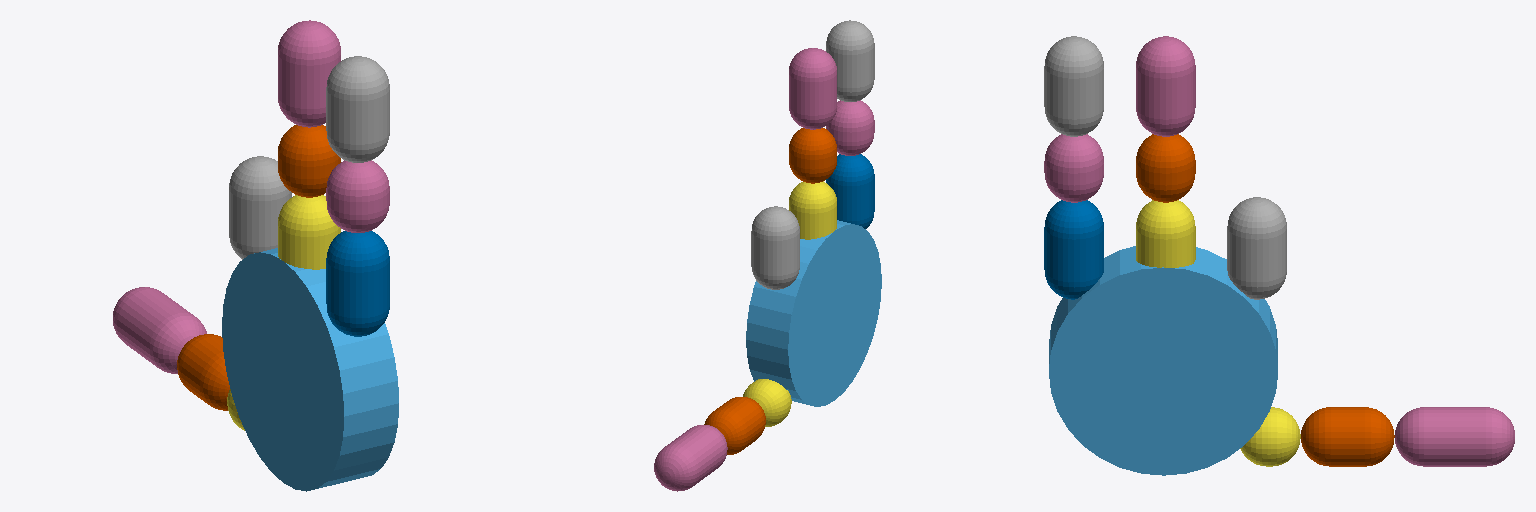
robot.urdf — DexterousHand:
<?xml version="1.0"?>
<robot name="DexterousHand">


    <link name="world"/>
    <joint name="world_to_palm" type="fixed">
        <parent link="world"/>
        <child link="palm"/>
        <origin xyz="0 0 0" rpy="0 0 0"/>
    </joint>
    <link name="palm">
        <inertial>
            <origin xyz="0 0 0.057" rpy="0 0 0"/>
            <mass value="0.30212892864"/>
            <inertia ixx="0.00049080844457568" ixy="0.0" ixz="0.0" iyy="0.00026746366246427523" iyz="0.0" izz="0.00026746366246427523"/>
        </inertial>
        <visual>
            <origin xyz="0 0 0.057" rpy="1.5708 0 1.5708"/>
            <geometry>
                <cylinder radius="0.057" length="0.0296"/>
            </geometry>
            <material name="default"/>
        </visual>
        <collision>
            <origin xyz="0 0 0.057" rpy="1.5708 0 1.5708"/>
            <geometry>
                <cylinder radius="0.057" length="0.0296"/>
            </geometry>
        </collision>
    </link>

    
    <joint name="thumb_joint1" type="revolute">
        <parent link="palm"/>
        <child link="thumb_base"/>
        <origin xyz="0.0029 0.0368 0.0157" rpy="-1.5708 -1.5708 0.0"/>
        <axis xyz="-1 0 0"/>
        <limit lower="-0.349" upper="2.094" effort="1.0" velocity="1.0"/>
    </joint>

    <link name="thumb_base"></link>

    <joint name="thumb_joint2" type="revolute">
        <parent link="thumb_base"/>
        <child link="thumb_proximal"/>
        <origin xyz="0.0 0.0 0.0" rpy="0.0 0.0 0.0"/>
        <axis xyz="0 0 1"/>
        <limit lower="-0.47" upper="2.443" effort="1.0" velocity="1.0"/>
    </joint>

    <link name="thumb_proximal">
        <inertial>
            <origin xyz="0 0 0.01565" rpy="0 0 0"/>
            <mass value="0.021538658803200002"/>
            <inertia ixx="2.9378910096388167e-06" ixy="0.0" ixz="0.0" 
            iyy="2.9378910096388167e-06" iyz="0.0" izz="2.358913912126464e-06"/>
        </inertial>
        <visual>
            <origin xyz="0 0 0.01565" rpy="0 0 0"/>
            <geometry>
                <cylinder radius="0.0148" length="0.0017000000000000001"/>
            </geometry>
            <material name="default"/>
        </visual>
        <visual>
            <origin xyz="0 0 0.0148" rpy="0 0 0"/>
            <geometry>
                <sphere radius="0.0148"/>
            </geometry>
            <material name="default"/>
        </visual>
        <visual>
            <origin xyz="0 0 0.0165" rpy="0 0 0"/>
            <geometry>
                <sphere radius="0.0148"/>
            </geometry>
            <material name="default"/>
        </visual>
        <collision>
            <origin xyz="0 0 0.01565" rpy="0 0 0"/>
            <geometry>
                <cylinder radius="0.0148" length="0.0017000000000000001"/>
            </geometry>
        </collision>
        <collision>
            <origin xyz="0 0 0.0148" rpy="0 0 0"/>
            <geometry>
                <sphere radius="0.0148"/>
            </geometry>
        </collision>
        <collision>
            <origin xyz="0 0 0.0165" rpy="0 0 0"/>
            <geometry>
                <sphere radius="0.0148"/>
            </geometry>
        </collision>
    </link>

    <joint name="thumb_joint3" type="revolute">
        <parent link="thumb_proximal"/>
        <child link="thumb_knuckle"/>
        <origin xyz="0.0 0.0 0.0313" rpy="0.0 0.0 0.0"/>
        <axis xyz="1 0 0"/>
        <limit lower="0.0" upper="0.0" effort="1.0" velocity="1.0"/>
    </joint>

    <link name="thumb_knuckle"></link>

    <joint name="thumb_joint4" type="revolute">
        <parent link="thumb_knuckle"/>
        <child link="thumb_middle"/>
        <origin xyz="0 0 0" rpy="0 0 0"/> 
        <axis xyz="0 1 0"/>
        <limit lower="-1.2" upper="1.9" effort="1.0" velocity="1.0"/>
    </joint>

    <link name="thumb_middle">
        <inertial>
            <origin xyz="0 0 0.0233" rpy="0 0 0"/>
            <mass value="0.032067140582400004"/>
            <inertia ixx="7.5589732685519385e-06" ixy="0.0" ixz="0.0" 
            iyy="7.5589732685519385e-06" iyz="0.0" izz="3.5119932365844485e-06"/>
        </inertial>
        <visual>
            <origin xyz="0 0 0.0233" rpy="0 0 0"/>
            <geometry>
                <cylinder radius="0.0148" length="0.017"/>
            </geometry>
            <material name="default"/>
        </visual>
        <visual>
            <origin xyz="0 0 0.0148" rpy="0 0 0"/>
            <geometry>
                <sphere radius="0.0148"/>
            </geometry>
            <material name="default"/>
        </visual>
        <visual>
            <origin xyz="0 0 0.0318" rpy="0 0 0"/>
            <geometry>
                <sphere radius="0.0148"/>
            </geometry>
            <material name="default"/>
        </visual>
        <collision>
            <origin xyz="0 0 0.0233" rpy="0 0 0"/>
            <geometry>
                <cylinder radius="0.0148" length="0.017"/>
            </geometry>
        </collision>
        <collision>
            <origin xyz="0 0 0.0148" rpy="0 0 0"/>
            <geometry>
                <sphere radius="0.0148"/>
            </geometry>
        </collision>
        <collision>
            <origin xyz="0 0 0.0318" rpy="0 0 0"/>
            <geometry>
                <sphere radius="0.0148"/>
            </geometry>
        </collision>
    </link>

    <joint name="thumb_joint5" type="revolute">
        <parent link="thumb_middle"/>
        <child link="thumb_distal"/>
        <origin xyz="0 0 0.0466" rpy="0 0 0"/> 
        <axis xyz="0 1 0"/>
        <limit lower="-1.34" upper="1.88" effort="1.0" velocity="1.0"/>
    </joint>

    <link name="thumb_distal">
        <inertial>
            <origin xyz="0 0 0.03" rpy="0 0 0"/>
            <mass value="0.04128816384"/>
            <inertia ixx="1.46473890038784e-05" ixy="0.0" ixz="0.0" 
            iyy="1.46473890038784e-05" iyz="0.0" izz="4.521879703756801e-06"/>
        </inertial>
        <visual>
            <origin xyz="0 0 0.03" rpy="0 0 0"/>
            <geometry>
                <cylinder radius="0.0148" length="0.030399999999999996"/>
            </geometry>
            <material name="default"/>
        </visual>
        <visual>
            <origin xyz="0 0 0.0148" rpy="0 0 0"/>
            <geometry>
                <sphere radius="0.0148"/>
            </geometry>
            <material name="default"/>
        </visual>
        <visual>
            <origin xyz="0 0 0.0452" rpy="0 0 0"/>
            <geometry>
                <sphere radius="0.0148"/>
            </geometry>
            <material name="default"/>
        </visual>
        <collision>
            <origin xyz="0 0 0.03" rpy="0 0 0"/>
            <geometry>
                <cylinder radius="0.0148" length="0.030399999999999996"/>
            </geometry>
        </collision>
        <collision>
            <origin xyz="0 0 0.0148" rpy="0 0 0"/>
            <geometry>
                <sphere radius="0.0148"/>
            </geometry>
        </collision>
        <collision>
            <origin xyz="0 0 0.0452" rpy="0 0 0"/>
            <geometry>
                <sphere radius="0.0148"/>
            </geometry>
        </collision>
    </link>

    
    <joint name="index_joint1" type="revolute">
        <parent link="palm"/>
        <child link="index_proximal"/>
        <origin xyz="0.0 0.0465 0.091" rpy="0.0 0.0 0.0"/>
        <axis xyz="0 1 0"/>
        <limit lower="-0.314" upper="2.23" effort="1.0" velocity="1.0"/>
    </joint>

    <link name="index_proximal">
        <inertial>
            <origin xyz="0 0 0.02655" rpy="0 0 0"/>
            <mass value="0.036540024998400006"/>
            <inertia ixx="1.058665009272394e-05" ixy="0.0" ixz="0.0" 
            iyy="1.058665009272394e-05" iyz="0.0" izz="4.001863537824769e-06"/>
        </inertial>
        <visual>
            <origin xyz="0 0 0.02655" rpy="0 0 0"/>
            <geometry>
                <cylinder radius="0.0148" length="0.0235"/>
            </geometry>
            <material name="default"/>
        </visual>
        <visual>
            <origin xyz="0 0 0.0148" rpy="0 0 0"/>
            <geometry>
                <sphere radius="0.0148"/>
            </geometry>
            <material name="default"/>
        </visual>
        <visual>
            <origin xyz="0 0 0.0383" rpy="0 0 0"/>
            <geometry>
                <sphere radius="0.0148"/>
            </geometry>
            <material name="default"/>
        </visual>
        <collision>
            <origin xyz="0 0 0.02655" rpy="0 0 0"/>
            <geometry>
                <cylinder radius="0.0148" length="0.0235"/>
            </geometry>
        </collision>
        <collision>
            <origin xyz="0 0 0.0148" rpy="0 0 0"/>
            <geometry>
                <sphere radius="0.0148"/>
            </geometry>
        </collision>
        <collision>
            <origin xyz="0 0 0.0383" rpy="0 0 0"/>
            <geometry>
                <sphere radius="0.0148"/>
            </geometry>
        </collision>
    </link>

    <joint name="index_joint2" type="revolute">
        <parent link="index_proximal"/>
        <child link="index_dummy"/>
        <origin xyz="0.0 0.0 0.038" rpy="0.0 0.0 0.0"/>
        <axis xyz="0 1 0"/>
        <limit lower="0.0" upper="0.0" effort="1.0" velocity="1.0"/>
    </joint>

    <link name="index_dummy"></link>

    <joint name="index_joint3" type="revolute">
        <parent link="index_dummy"/>
        <child link="index_middle"/>
        <origin xyz="0 0 0.015100000000000002" rpy="0 0 0"/>
        <axis xyz="0 1 0"/>
        <limit lower="0.0" upper="0.0" effort="1.0" velocity="1.0"/>
    </joint>

    <link name="index_middle">
    </link>

    <joint name="index_joint4" type="revolute">
        <parent link="index_middle"/>
        <child link="index_distal"/>
        <origin xyz="0 0 0" rpy="0 0 0"/> 
        <axis xyz="0 1 0"/>
        <limit lower="0.0" upper="0.0" effort="1.0" velocity="1.0"/>
    </joint>

    <link name="index_distal">
    </link>

    
    <joint name="middle_joint1" type="revolute">
        <parent link="palm"/>
        <child link="middle_proximal"/>
        <origin xyz="0.0 0.0011 0.091" rpy="0.0 0.0 0.0"/>
        <axis xyz="0 1 0"/>
        <limit lower="-0.314" upper="2.23" effort="1.0" velocity="1.0"/>
    </joint>

    <link name="middle_proximal">
        <inertial>
            <origin xyz="0 0 0.02655" rpy="0 0 0"/>
            <mass value="0.036540024998400006"/>
            <inertia ixx="1.058665009272394e-05" ixy="0.0" ixz="0.0" 
            iyy="1.058665009272394e-05" iyz="0.0" izz="4.001863537824769e-06"/>
        </inertial>
        <visual>
            <origin xyz="0 0 0.02655" rpy="0 0 0"/>
            <geometry>
                <cylinder radius="0.0148" length="0.0235"/>
            </geometry>
            <material name="default"/>
        </visual>
        <visual>
            <origin xyz="0 0 0.0148" rpy="0 0 0"/>
            <geometry>
                <sphere radius="0.0148"/>
            </geometry>
            <material name="default"/>
        </visual>
        <visual>
            <origin xyz="0 0 0.0383" rpy="0 0 0"/>
            <geometry>
                <sphere radius="0.0148"/>
            </geometry>
            <material name="default"/>
        </visual>
        <collision>
            <origin xyz="0 0 0.02655" rpy="0 0 0"/>
            <geometry>
                <cylinder radius="0.0148" length="0.0235"/>
            </geometry>
        </collision>
        <collision>
            <origin xyz="0 0 0.0148" rpy="0 0 0"/>
            <geometry>
                <sphere radius="0.0148"/>
            </geometry>
        </collision>
        <collision>
            <origin xyz="0 0 0.0383" rpy="0 0 0"/>
            <geometry>
                <sphere radius="0.0148"/>
            </geometry>
        </collision>
    </link>

    <joint name="middle_joint2" type="revolute">
        <parent link="middle_proximal"/>
        <child link="middle_dummy"/>
        <origin xyz="0.0 0.0 0.038" rpy="0.0 0.0 0.0"/>
        <axis xyz="1 0 0"/>
        <limit lower="-1.047" upper="1.047" effort="1.0" velocity="1.0"/>
    </joint>

    <link name="middle_dummy"></link>

    <joint name="middle_joint3" type="revolute">
        <parent link="middle_dummy"/>
        <child link="middle_middle"/>
        <origin xyz="0 0 0.015100000000000002" rpy="0 0 0"/>
        <axis xyz="0 1 0"/>
        <limit lower="-0.506" upper="1.885" effort="1.0" velocity="1.0"/>
    </joint>

    <link name="middle_middle">
        <inertial>
            <origin xyz="0 0 0.01805" rpy="0 0 0"/>
            <mass value="0.0248417119104"/>
            <inertia ixx="4.058162759109537e-06" ixy="0.0" ixz="0.0" 
            iyy="4.058162759109537e-06" iyz="0.0" izz="2.7206642884270085e-06"/>
        </inertial>
        <visual>
            <origin xyz="0 0 0.01805" rpy="0 0 0"/>
            <geometry>
                <cylinder radius="0.0148" length="0.006499999999999999"/>
            </geometry>
            <material name="default"/>
        </visual>
        <visual>
            <origin xyz="0 0 0.0148" rpy="0 0 0"/>
            <geometry>
                <sphere radius="0.0148"/>
            </geometry>
            <material name="default"/>
        </visual>
        <visual>
            <origin xyz="0 0 0.0213" rpy="0 0 0"/>
            <geometry>
                <sphere radius="0.0148"/>
            </geometry>
            <material name="default"/>
        </visual>
        <collision>
            <origin xyz="0 0 0.01805" rpy="0 0 0"/>
            <geometry>
                <cylinder radius="0.0148" length="0.006499999999999999"/>
            </geometry>
        </collision>
        <collision>
            <origin xyz="0 0 0.0148" rpy="0 0 0"/>
            <geometry>
                <sphere radius="0.0148"/>
            </geometry>
        </collision>
        <collision>
            <origin xyz="0 0 0.0213" rpy="0 0 0"/>
            <geometry>
                <sphere radius="0.0148"/>
            </geometry>
        </collision>
    </link>

    <joint name="middle_joint4" type="revolute">
        <parent link="middle_middle"/>
        <child link="middle_distal"/>
        <origin xyz="0 0 0.0361" rpy="0 0 0"/> 
        <axis xyz="0 1 0"/>
        <limit lower="-0.366" upper="2.042" effort="1.0" velocity="1.0"/>
    </joint>

    <link name="middle_distal">
        <inertial>
            <origin xyz="0 0 0.026" rpy="0 0 0"/>
            <mass value="0.035783075328"/>
            <inertia ixx="1.002260084553728e-05" ixy="0.0" ixz="0.0" 
            iyy="1.002260084553728e-05" iyz="0.0" izz="3.91896240992256e-06"/>
        </inertial>
        <visual>
            <origin xyz="0 0 0.026" rpy="0 0 0"/>
            <geometry>
                <cylinder radius="0.0148" length="0.022399999999999996"/>
            </geometry>
            <material name="default"/>
        </visual>
        <visual>
            <origin xyz="0 0 0.0148" rpy="0 0 0"/>
            <geometry>
                <sphere radius="0.0148"/>
            </geometry>
            <material name="default"/>
        </visual>
        <visual>
            <origin xyz="0 0 0.0372" rpy="0 0 0"/>
            <geometry>
                <sphere radius="0.0148"/>
            </geometry>
            <material name="default"/>
        </visual>
        <collision>
            <origin xyz="0 0 0.026" rpy="0 0 0"/>
            <geometry>
                <cylinder radius="0.0148" length="0.022399999999999996"/>
            </geometry>
        </collision>
        <collision>
            <origin xyz="0 0 0.0148" rpy="0 0 0"/>
            <geometry>
                <sphere radius="0.0148"/>
            </geometry>
        </collision>
        <collision>
            <origin xyz="0 0 0.0372" rpy="0 0 0"/>
            <geometry>
                <sphere radius="0.0148"/>
            </geometry>
        </collision>
    </link>

    
    <joint name="ring_joint1" type="revolute">
        <parent link="palm"/>
        <child link="ring_proximal"/>
        <origin xyz="0.0 0.0 0.0" rpy="0.0 0.0 0.0"/>
        <axis xyz="1 0 0"/>
        <limit lower="0.0" upper="0.0" effort="1.0" velocity="1.0"/>
    </joint>

    <link name="ring_proximal">
    </link>

    <joint name="ring_joint2" type="revolute">
        <parent link="ring_proximal"/>
        <child link="ring_dummy"/>
        <origin xyz="0.0 0.0 0.0" rpy="0.0 0.0 0.0"/>
        <axis xyz="0 1 0"/>
        <limit lower="0.0" upper="0.0" effort="1.0" velocity="1.0"/>
    </joint>

    <link name="ring_dummy"></link>

    <joint name="ring_joint3" type="revolute">
        <parent link="ring_dummy"/>
        <child link="ring_middle"/>
        <origin xyz="0 0 0" rpy="0 0 0"/>
        <axis xyz="0 1 0"/>
        <limit lower="0.0" upper="0.0" effort="1.0" velocity="1.0"/>
    </joint>

    <link name="ring_middle">
    </link>

    <joint name="ring_joint4" type="revolute">
        <parent link="ring_middle"/>
        <child link="ring_distal"/>
        <origin xyz="0 0 0" rpy="0 0 0"/> 
        <axis xyz="0 1 0"/>
        <limit lower="0.0" upper="0.0" effort="1.0" velocity="1.0"/>
    </joint>

    <link name="ring_distal">
    </link>

    
    <joint name="little_joint0" type="revolute">
        <parent link="palm"/>
        <child link="little_base"/>
        <origin xyz="0.0 0.0 0.0" rpy="0.0 0.0 0.0"/>
        <axis xyz="0 1 0"/>
        <limit lower="0.0" upper="0.0" effort="1.0" velocity="1.0"/>
    </joint>

    <link name="little_base"></link>

    <joint name="little_joint1" type="revolute">
        <parent link="little_base"/>
        <child link="little_proximal"/>
        <origin xyz="0.0 -0.0443 0.091" rpy="-0.0 -0.0 -0.0"/>
        <axis xyz="0 1 0"/>
        <limit lower="-0.314" upper="2.23" effort="1.0" velocity="1.0"/>
    </joint>

    <link name="little_proximal">
        <inertial>
            <origin xyz="0 0 0.02655" rpy="0 0 0"/>
            <mass value="0.036540024998400006"/>
            <inertia ixx="1.058665009272394e-05" ixy="0.0" ixz="0.0" 
            iyy="1.058665009272394e-05" iyz="0.0" izz="4.001863537824769e-06"/>
        </inertial>
        <visual>
            <origin xyz="0 0 0.02655" rpy="0 0 0"/>
            <geometry>
                <cylinder radius="0.0148" length="0.0235"/>
            </geometry>
            <material name="default"/>
        </visual>
        <visual>
            <origin xyz="0 0 0.0148" rpy="0 0 0"/>
            <geometry>
                <sphere radius="0.0148"/>
            </geometry>
            <material name="default"/>
        </visual>
        <visual>
            <origin xyz="0 0 0.0383" rpy="0 0 0"/>
            <geometry>
                <sphere radius="0.0148"/>
            </geometry>
            <material name="default"/>
        </visual>
        <collision>
            <origin xyz="0 0 0.02655" rpy="0 0 0"/>
            <geometry>
                <cylinder radius="0.0148" length="0.0235"/>
            </geometry>
        </collision>
        <collision>
            <origin xyz="0 0 0.0148" rpy="0 0 0"/>
            <geometry>
                <sphere radius="0.0148"/>
            </geometry>
        </collision>
        <collision>
            <origin xyz="0 0 0.0383" rpy="0 0 0"/>
            <geometry>
                <sphere radius="0.0148"/>
            </geometry>
        </collision>
    </link>

    <joint name="little_joint2" type="revolute">
        <parent link="little_proximal"/>
        <child link="little_dummy"/>
        <origin xyz="0.0 0.0 0.038" rpy="0.0 0.0 0.0"/>
        <axis xyz="1 0 0"/>
        <limit lower="-1.047" upper="1.047" effort="1.0" velocity="1.0"/>
    </joint>

    <link name="little_dummy"></link>

    <joint name="little_joint3" type="revolute">
        <parent link="little_dummy"/>
        <child link="little_middle"/>
        <origin xyz="0 0 0.015100000000000002" rpy="0 0 0"/>
        <axis xyz="0 1 0"/>
        <limit lower="-0.506" upper="1.885" effort="1.0" velocity="1.0"/>
    </joint>

    <link name="little_middle">
        <inertial>
            <origin xyz="0 0 0.01805" rpy="0 0 0"/>
            <mass value="0.0248417119104"/>
            <inertia ixx="4.058162759109537e-06" ixy="0.0" ixz="0.0" 
            iyy="4.058162759109537e-06" iyz="0.0" izz="2.7206642884270085e-06"/>
        </inertial>
        <visual>
            <origin xyz="0 0 0.01805" rpy="0 0 0"/>
            <geometry>
                <cylinder radius="0.0148" length="0.006499999999999999"/>
            </geometry>
            <material name="default"/>
        </visual>
        <visual>
            <origin xyz="0 0 0.0148" rpy="0 0 0"/>
            <geometry>
                <sphere radius="0.0148"/>
            </geometry>
            <material name="default"/>
        </visual>
        <visual>
            <origin xyz="0 0 0.0213" rpy="0 0 0"/>
            <geometry>
                <sphere radius="0.0148"/>
            </geometry>
            <material name="default"/>
        </visual>
        <collision>
            <origin xyz="0 0 0.01805" rpy="0 0 0"/>
            <geometry>
                <cylinder radius="0.0148" length="0.006499999999999999"/>
            </geometry>
        </collision>
        <collision>
            <origin xyz="0 0 0.0148" rpy="0 0 0"/>
            <geometry>
                <sphere radius="0.0148"/>
            </geometry>
        </collision>
        <collision>
            <origin xyz="0 0 0.0213" rpy="0 0 0"/>
            <geometry>
                <sphere radius="0.0148"/>
            </geometry>
        </collision>
    </link>

    <joint name="little_joint4" type="revolute">
        <parent link="little_middle"/>
        <child link="little_distal"/>
        <origin xyz="0 0 0.0361" rpy="0 0 0"/>
        <axis xyz="0 1 0"/>
        <limit lower="-0.366" upper="2.042" effort="1.0" velocity="1.0"/>
    </joint>

    <link name="little_distal">
        <inertial>
            <origin xyz="0 0 0.026" rpy="0 0 0"/>
            <mass value="0.035783075328"/>
            <inertia ixx="1.002260084553728e-05" ixy="0.0" ixz="0.0" 
            iyy="1.002260084553728e-05" iyz="0.0" izz="3.91896240992256e-06"/>
        </inertial>
        <visual>
            <origin xyz="0 0 0.026" rpy="0 0 0"/>
            <geometry>
                <cylinder radius="0.0148" length="0.022399999999999996"/>
            </geometry>
            <material name="default"/>
        </visual>
        <visual>
            <origin xyz="0 0 0.0148" rpy="0 0 0"/>
            <geometry>
                <sphere radius="0.0148"/>
            </geometry>
            <material name="default"/>
        </visual>
        <visual>
            <origin xyz="0 0 0.0372" rpy="0 0 0"/>
            <geometry>
                <sphere radius="0.0148"/>
            </geometry>
            <material name="default"/>
        </visual>
        <collision>
            <origin xyz="0 0 0.026" rpy="0 0 0"/>
            <geometry>
                <cylinder radius="0.0148" length="0.022399999999999996"/>
            </geometry>
        </collision>
        <collision>
            <origin xyz="0 0 0.0148" rpy="0 0 0"/>
            <geometry>
                <sphere radius="0.0148"/>
            </geometry>
        </collision>
        <collision>
            <origin xyz="0 0 0.0372" rpy="0 0 0"/>
            <geometry>
                <sphere radius="0.0148"/>
            </geometry>
        </collision>
    </link>

</robot>

--- Facts derived from the render (not from the file) ---
The picture shows the robot from 3 angles, left to right: view 1: azimuth 30°, elevation 25°; view 2: azimuth 150°, elevation 25°; view 3: azimuth 270°, elevation 25°; orthographic projection.
Model DexterousHand with 24 links and 23 joints (22 revolute, 1 fixed), rooted at world, posed every joint at zero.
Links seen in each view (by area): view 1: palm, little_proximal, little_distal, middle_distal, thumb_distal, index_proximal, little_middle, middle_proximal, middle_middle, thumb_middle; view 2: palm, index_proximal, middle_distal, thumb_distal, little_distal, little_proximal, middle_middle, middle_proximal, thumb_middle, little_middle, thumb_proximal; view 3: palm, thumb_distal, index_proximal, middle_distal, little_distal, little_proximal, thumb_middle, middle_proximal, little_middle, middle_middle, thumb_proximal.
Link boxes in pixels (x1,y1,x2,y2): palm: [222, 248, 398, 491]; little_proximal: [326, 231, 389, 336]; little_distal: [326, 56, 389, 162]; middle_distal: [278, 20, 340, 127]; thumb_distal: [113, 287, 206, 373]; index_proximal: [229, 156, 291, 259]; little_middle: [326, 160, 389, 232]; middle_proximal: [278, 195, 340, 269]; middle_middle: [278, 125, 340, 197]; thumb_middle: [177, 334, 229, 410]; palm: [746, 220, 881, 406]; index_proximal: [751, 206, 799, 289]; middle_distal: [789, 48, 836, 129]; thumb_distal: [654, 425, 727, 491]; little_distal: [826, 20, 874, 101]; little_proximal: [826, 154, 874, 228]; middle_middle: [789, 128, 836, 183]; middle_proximal: [789, 181, 836, 239]; thumb_middle: [704, 397, 765, 454]; little_middle: [826, 100, 874, 155]; thumb_proximal: [743, 379, 791, 426]; palm: [1049, 246, 1277, 475]; thumb_distal: [1395, 407, 1514, 466]; index_proximal: [1227, 197, 1286, 299]; middle_distal: [1136, 36, 1195, 136]; little_distal: [1044, 36, 1103, 136]; little_proximal: [1044, 200, 1103, 299]; thumb_middle: [1301, 407, 1394, 466]; middle_proximal: [1136, 200, 1195, 267]; little_middle: [1044, 134, 1103, 202]; middle_middle: [1136, 134, 1195, 202]; thumb_proximal: [1240, 407, 1300, 466].
Bounding box of the posed robot: 0.0325 × 0.2338 × 0.2322 m (x, y, z).
Geometry: primitives only (box / cylinder / sphere), no mesh files.
